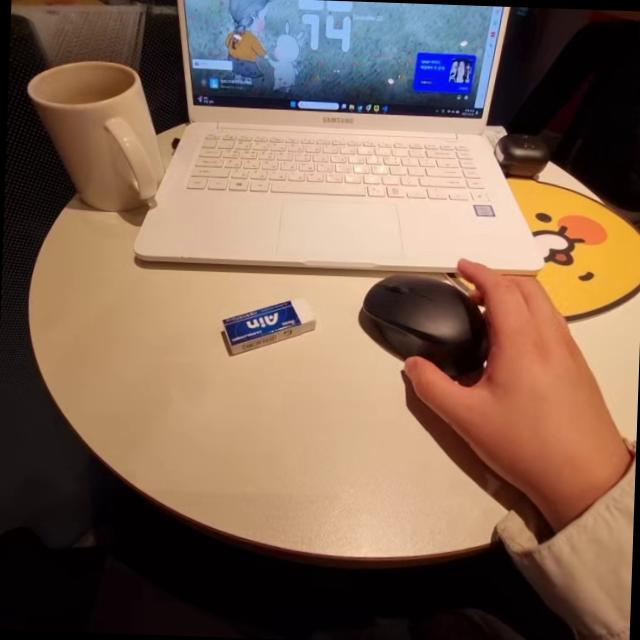eraser: (215, 286, 332, 372)
grab_mouse: (360, 250, 614, 520)
hand: (441, 255, 597, 491)
mouse: (364, 258, 486, 362)
